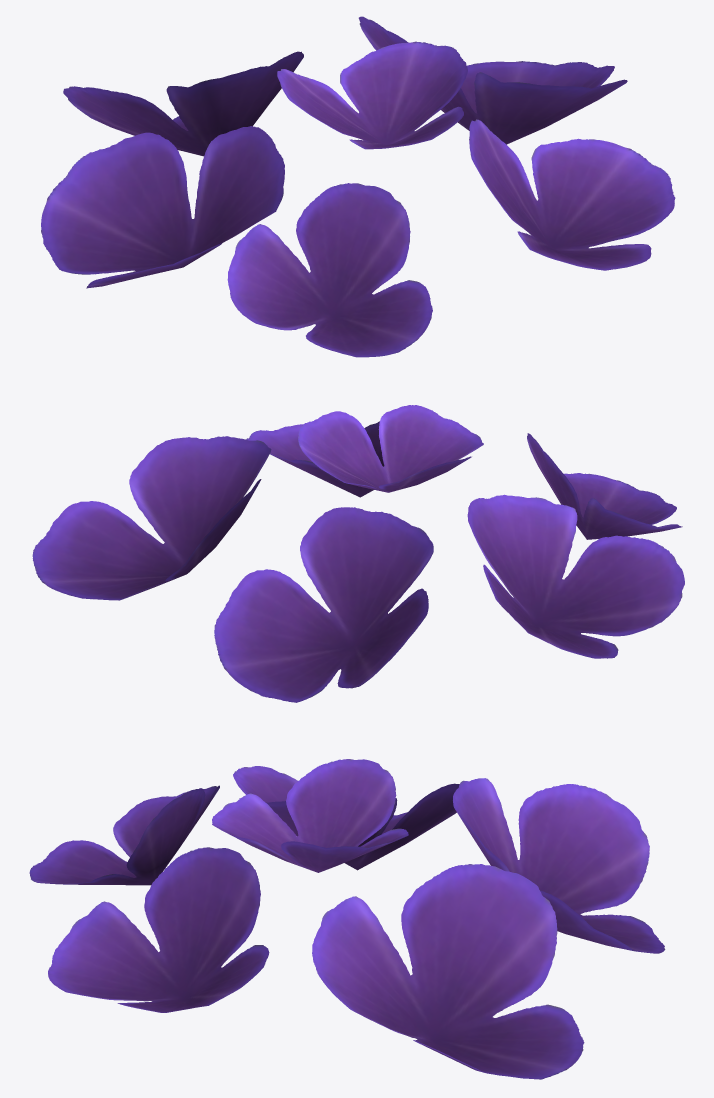
File: Plant_7.gltf
3 views of the same model, one above another, from view 1: azimuth 30°, elevation 25°; view 2: azimuth 150°, elevation 25°; view 3: azimuth 270°, elevation 25° (orthographic). The views are drawn at different scales.
Parts seen in each view (by area): view 1: Plant_7; view 2: Plant_7; view 3: Plant_7.
Part boxes in pixels (x1,y1,x2,y2): Plant_7: [41, 16, 675, 357]; Plant_7: [32, 405, 684, 702]; Plant_7: [29, 759, 665, 1079].
Size of the model in its own units: 1.08 by 0.2788 by 0.9728.
1 material, 1 textured.
